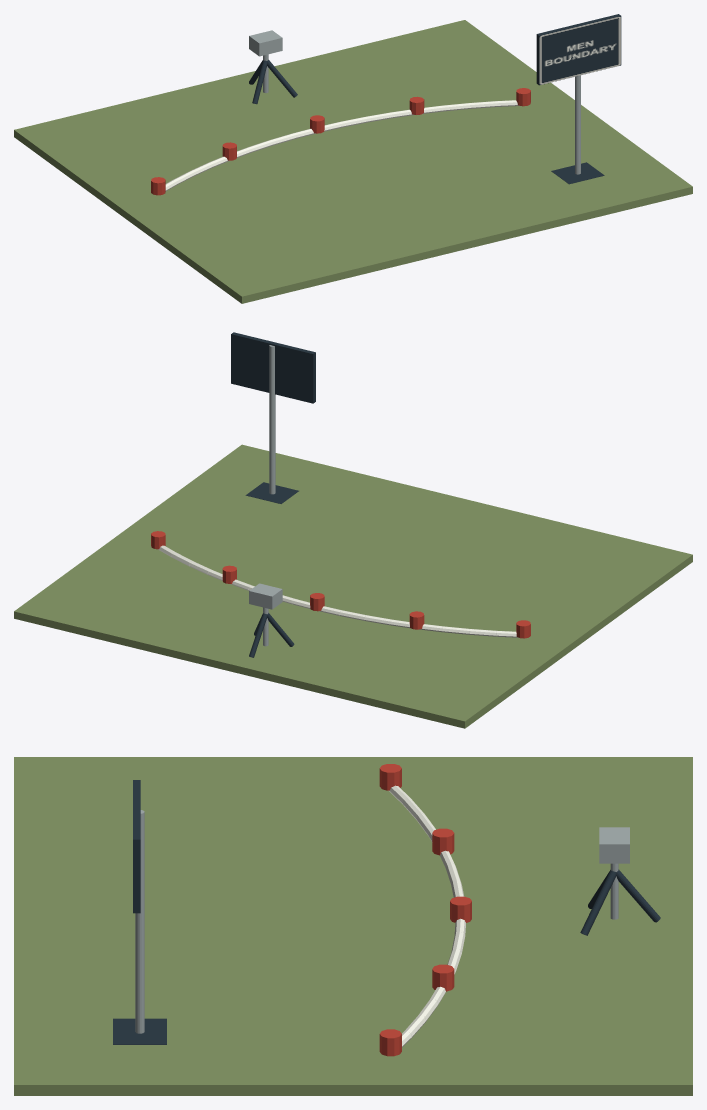
Rendered from scendance-plan-boundary-calculator-men.glb.
The picture shows the model from 3 angles, top to bottom: view 1: azimuth 30°, elevation 25°; view 2: azimuth 150°, elevation 25°; view 3: azimuth 270°, elevation 25°; orthographic projection. The views are drawn at different scales.
Bounding box in the file's own units: 5.05 × 1.67 × 4.42.
6 materials, 1 textured.
